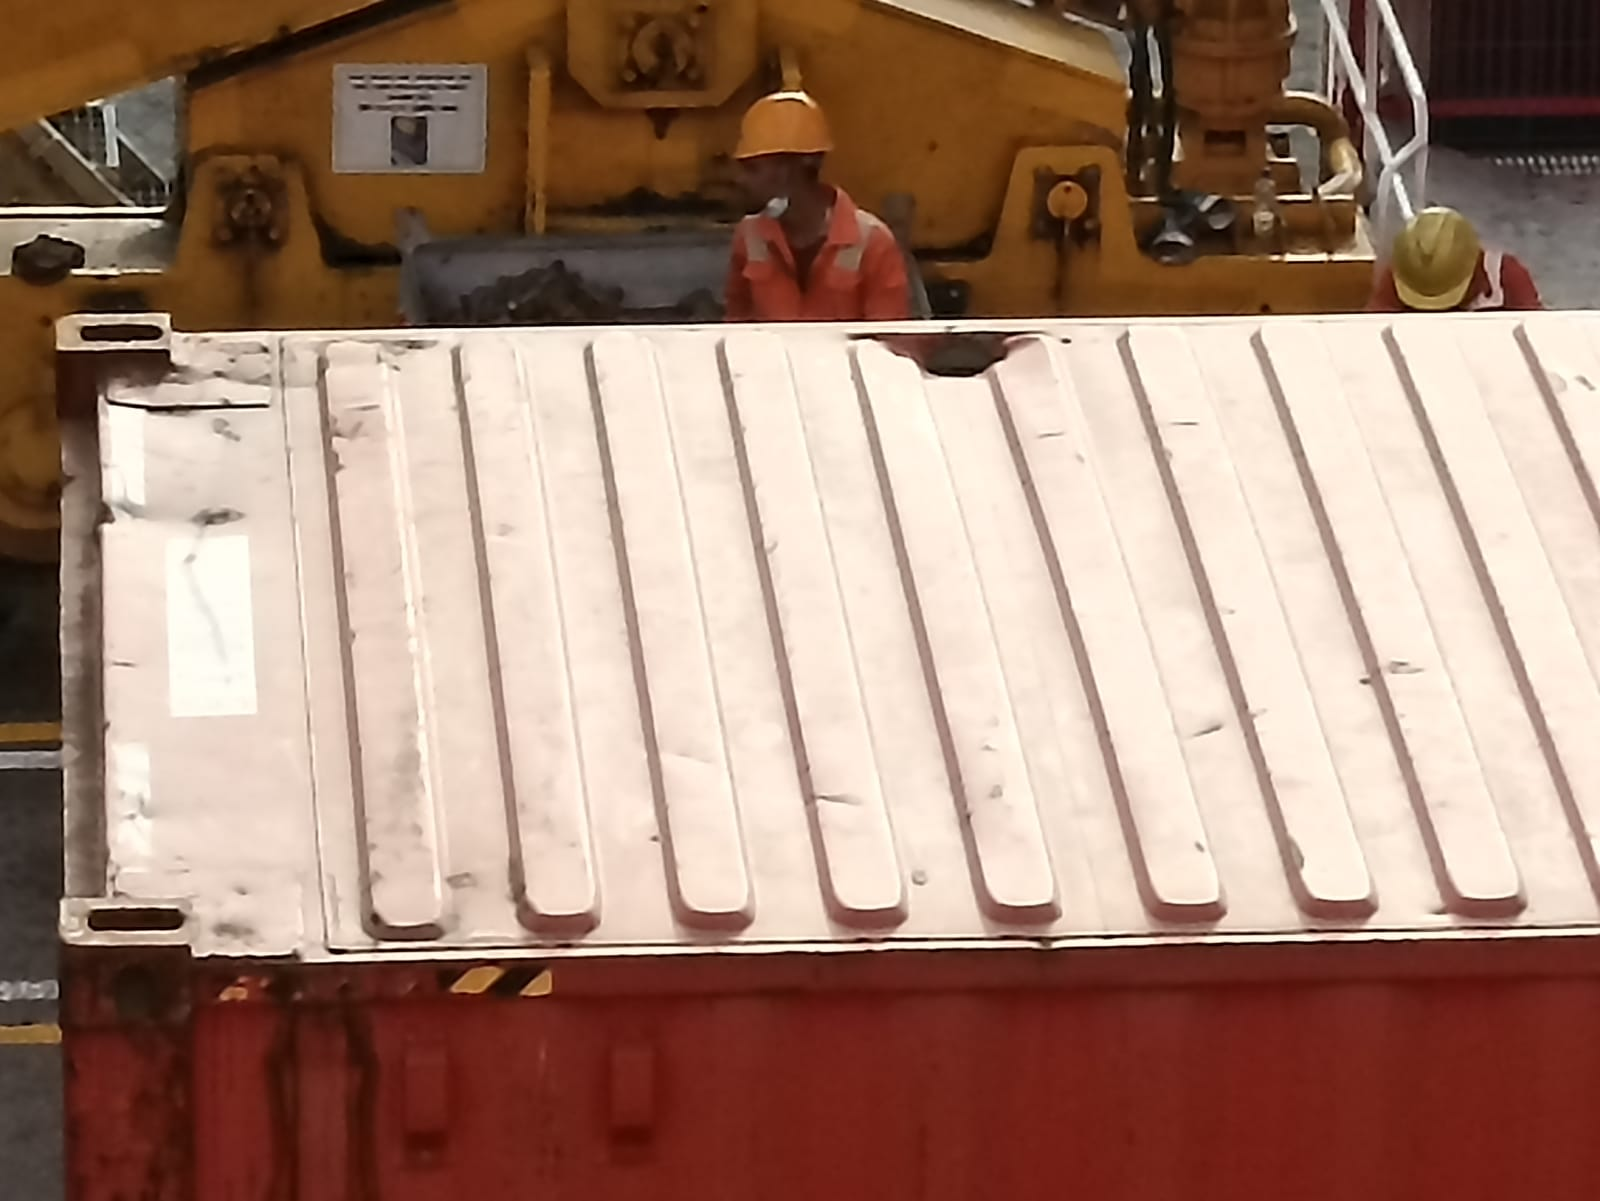severe: (837, 329, 1068, 394), (362, 338, 437, 360)
